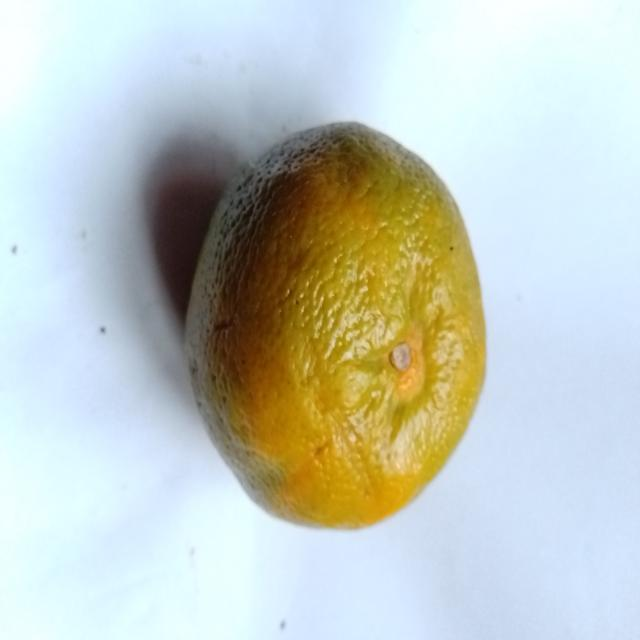orange: (187, 124, 485, 527)
